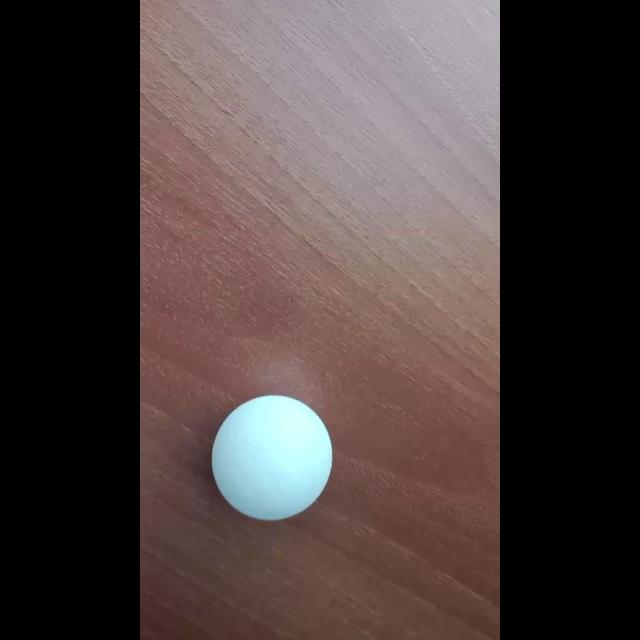white ball: (211, 394, 333, 522)
